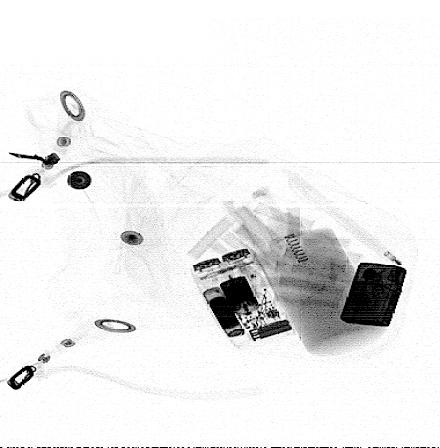Lighter: (338, 262, 408, 327)
